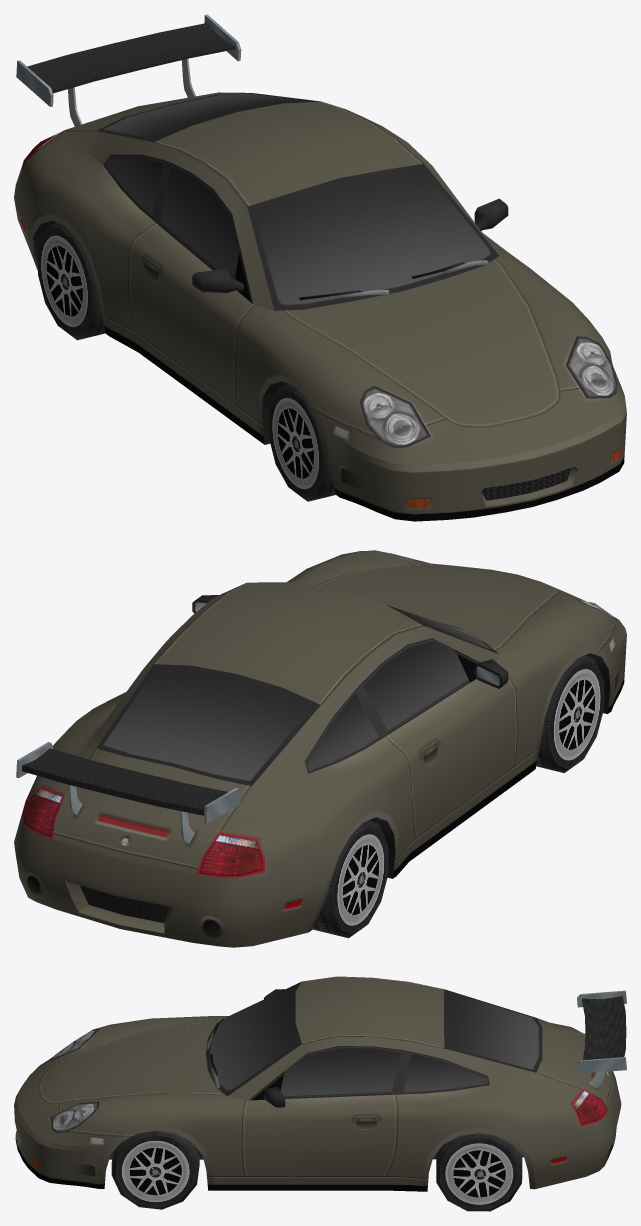
File: HighPerformanceGT.fbx
3 renders of one model, top to bottom at view 1: azimuth 30°, elevation 25°; view 2: azimuth 150°, elevation 25°; view 3: azimuth 270°, elevation 25°, orthographic. The views are drawn at different scales.
Visible parts, largest first — view 1: Chassis, RR_Wheel, RF_Wheel; view 2: Chassis, RR_Wheel, RF_Wheel; view 3: Chassis, LF_Wheel, LR_Wheel.
Part boxes in pixels (<box>): Chassis: <box>14,14,626,521</box>; RR_Wheel: <box>38,223,105,340</box>; RF_Wheel: <box>268,384,335,501</box>; Chassis: <box>14,550,626,947</box>; RR_Wheel: <box>312,820,388,938</box>; RF_Wheel: <box>536,655,604,772</box>; Chassis: <box>14,976,626,1191</box>; LF_Wheel: <box>111,1130,199,1209</box>; LR_Wheel: <box>436,1133,522,1211</box>.
Bounding box in the file's own units: 2.4 × 1.65 × 5.67.
2 materials, 2 textured.
